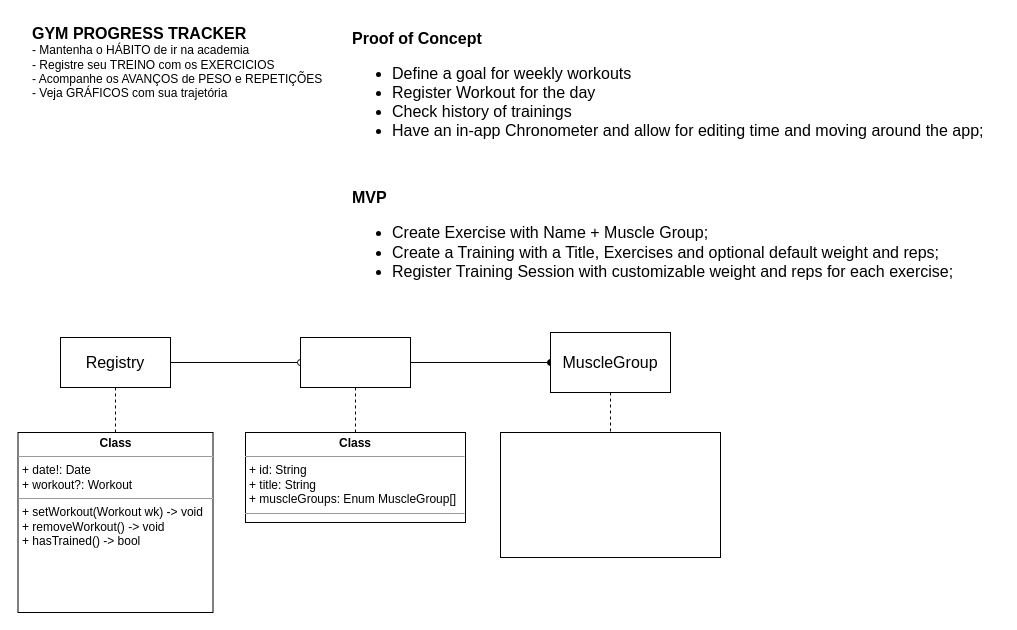
Some shapes in this 1017 by 630 pixel diagram are drawn without their labels. Here are the shapes that lost their labels. From the top down, the centre of each, then its label:
At point 355,362: "Workout".
At point 610,495: "Enum + Arms + Legs + Abs + Chest + Back + Shoulders".
